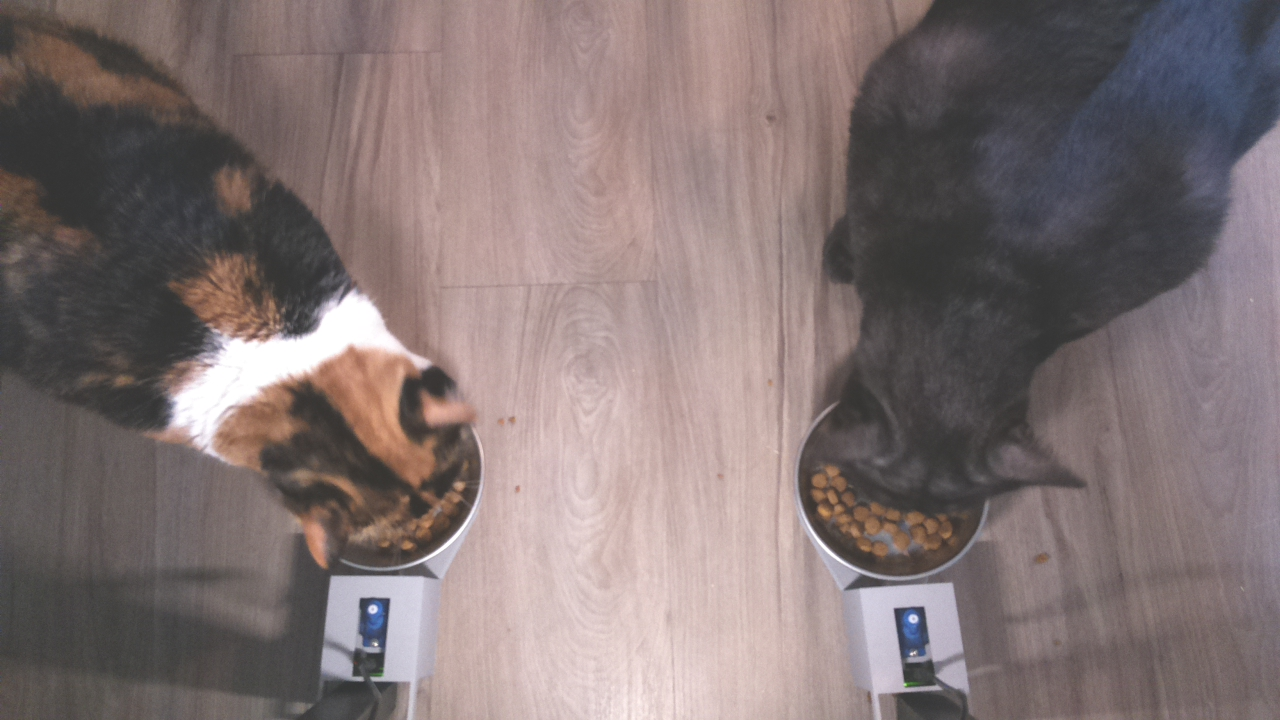bella_eating: (219, 308, 495, 576)
saki_eating: (778, 313, 1099, 587)
